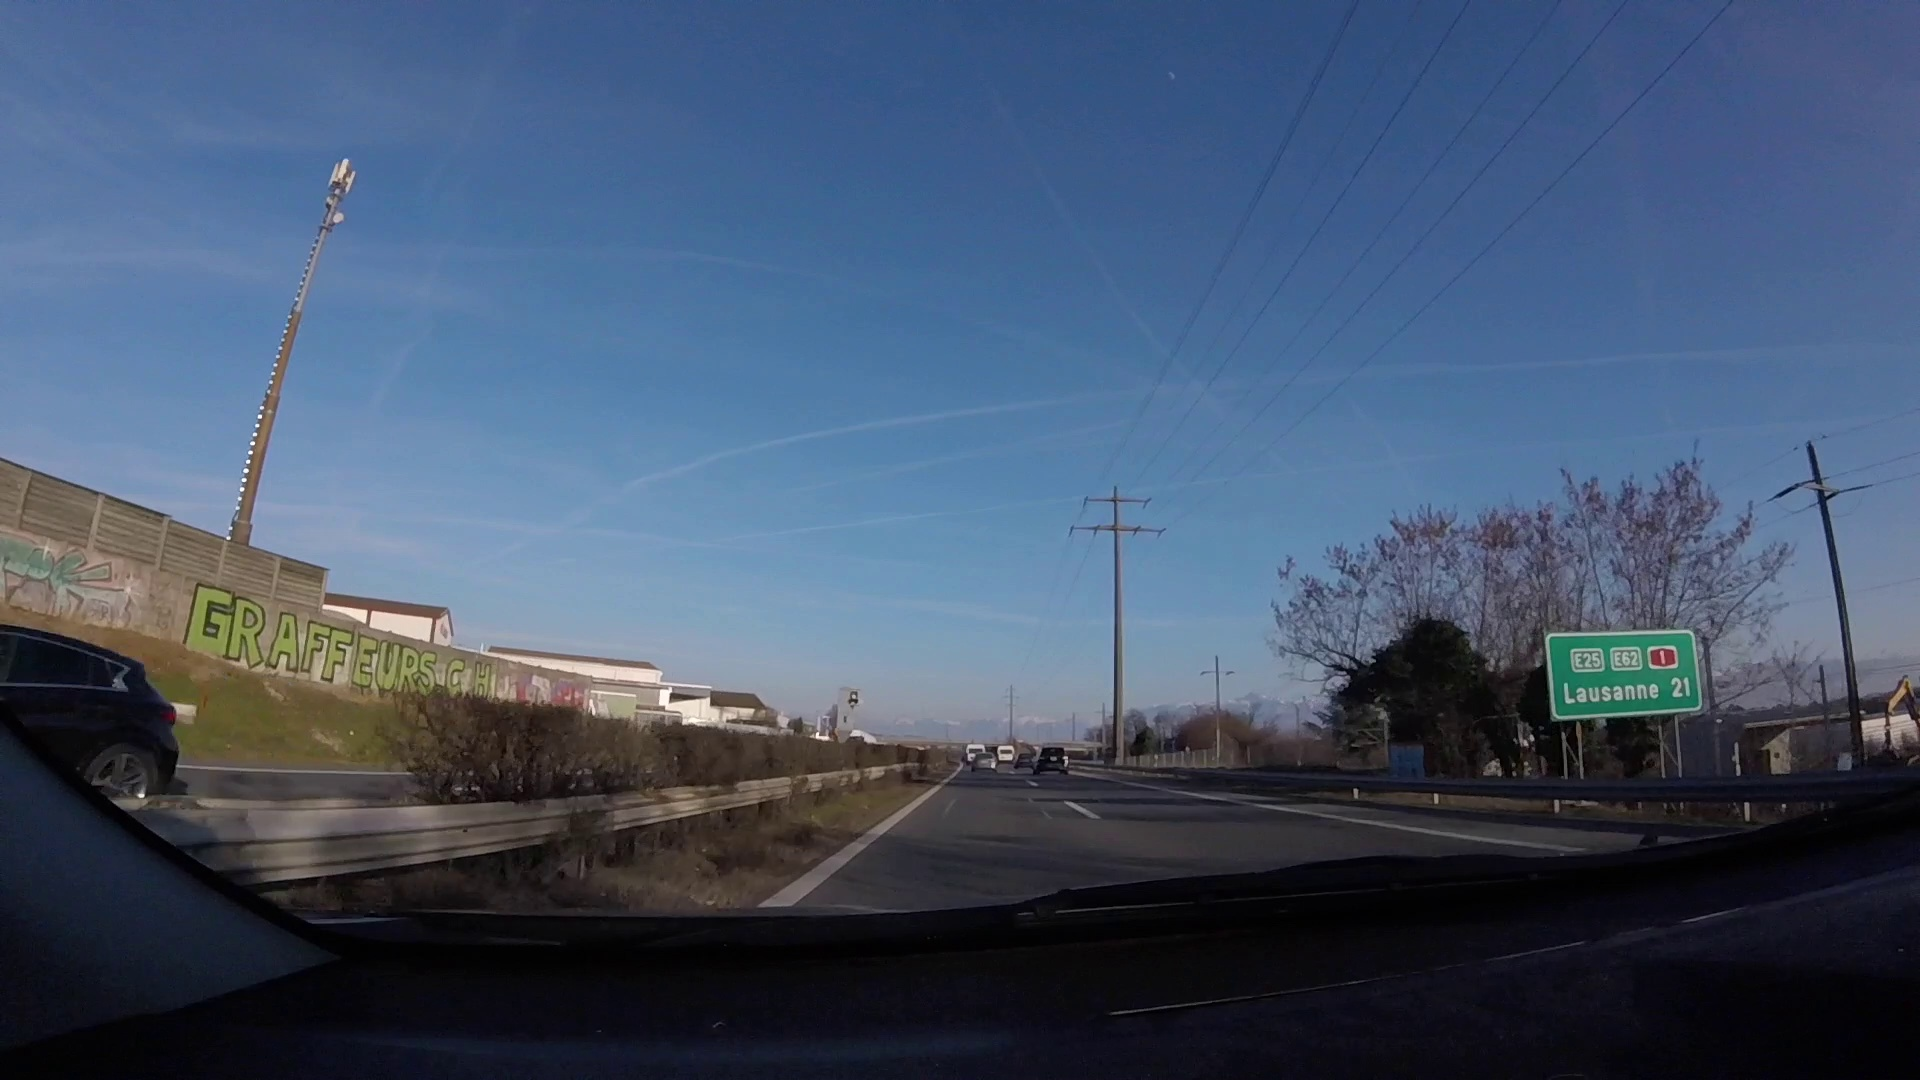radar: (836, 686, 865, 744)
